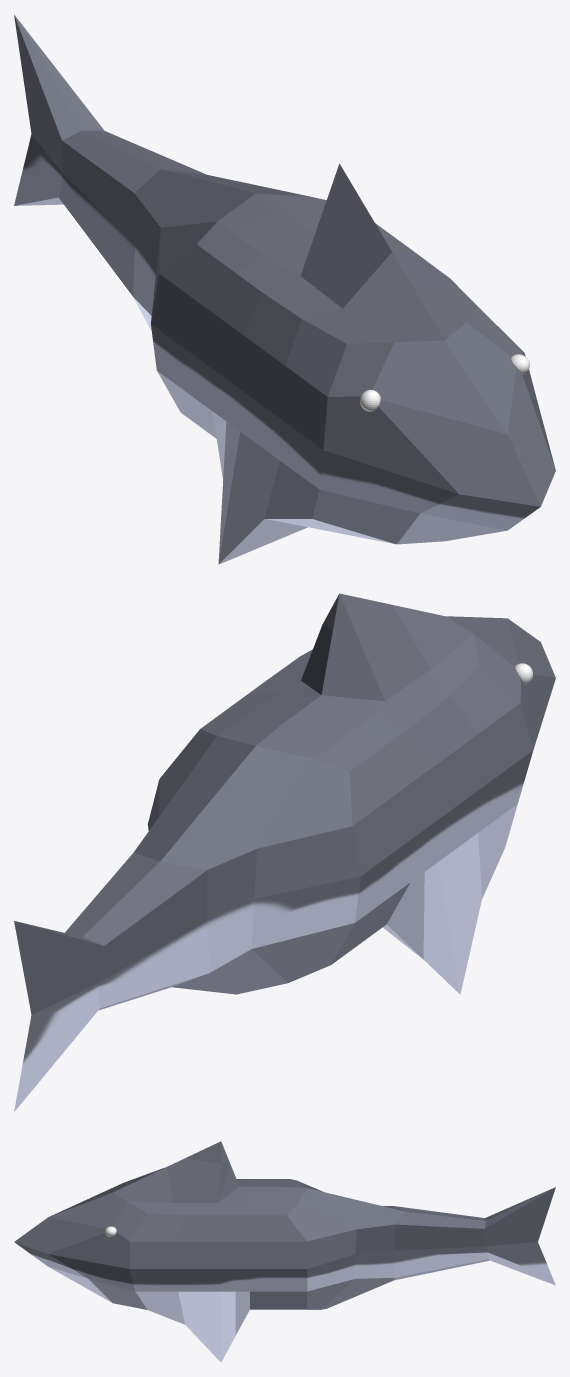
The model's file is tubarão.fbx.
The picture shows the model from 3 angles, top to bottom: view 1: azimuth 30°, elevation 25°; view 2: azimuth 150°, elevation 25°; view 3: azimuth 270°, elevation 25°; orthographic projection. The views are drawn at different scales.
Parts seen in each view (by area): view 1: tubarão; view 2: tubarão; view 3: tubarão.
Part boxes in pixels (box(x1,y1,x2,y2)): tubarão: box(14, 14, 555, 564); tubarão: box(14, 593, 555, 1111); tubarão: box(14, 1141, 555, 1362).
Size of the model in its own units: 392 by 537 by 1378.
2 materials, 2 textured.
